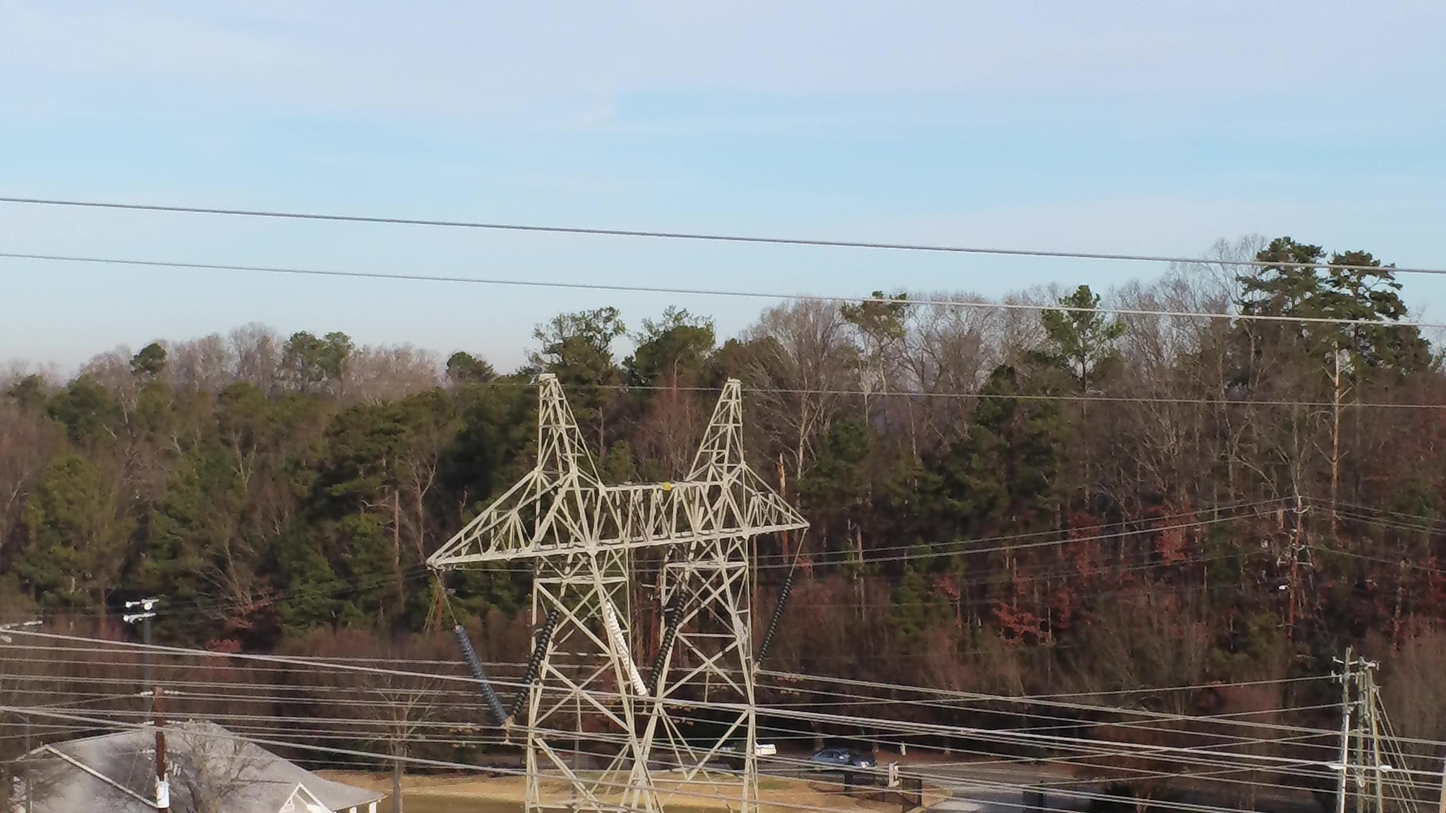power_tower: (426, 368, 813, 813)
